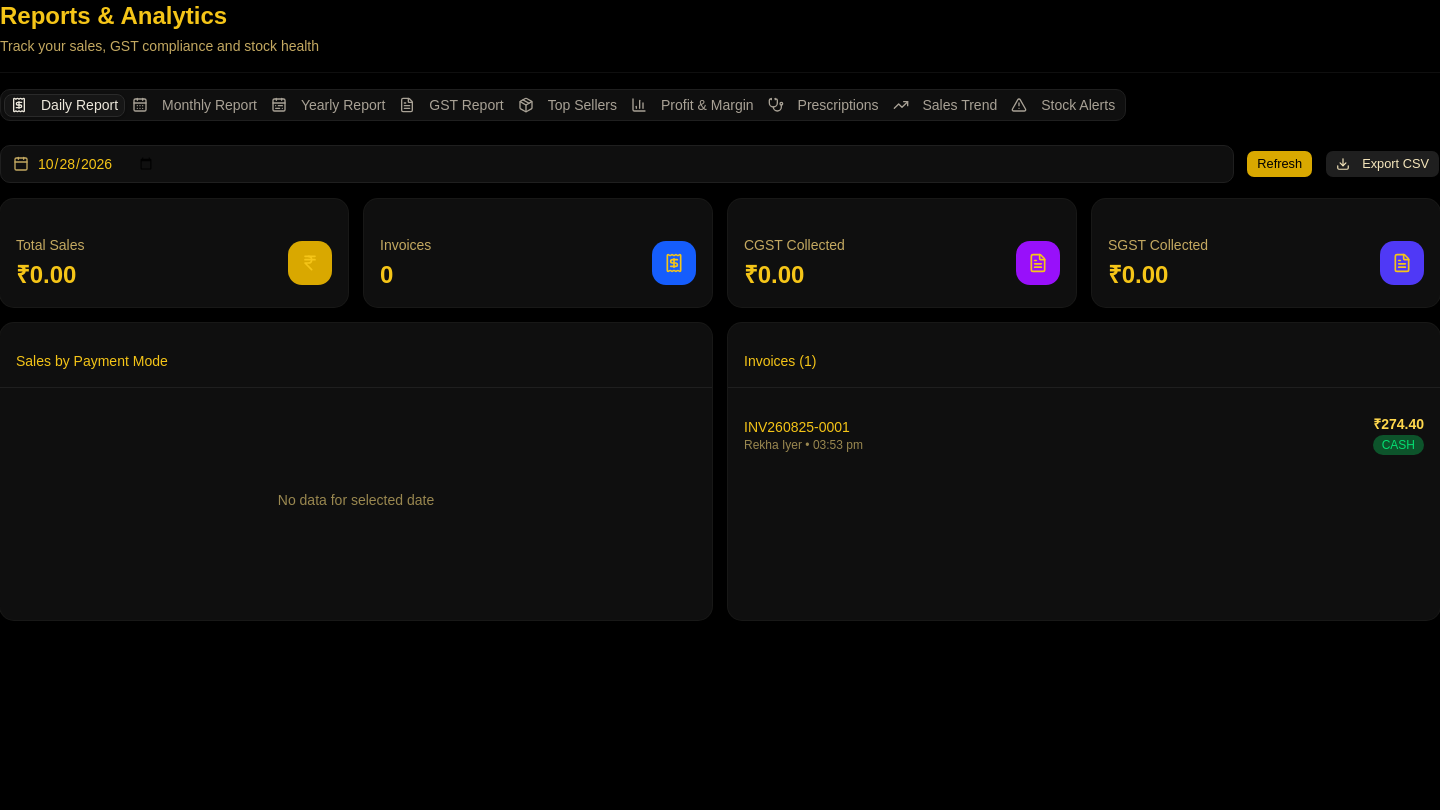
Reports — invoice detail › opens the invoice and shows what is still outstanding
Click the button with aria-label "Invoice INV260825-0001" at (797, 426), box [728, 404, 1439, 465]
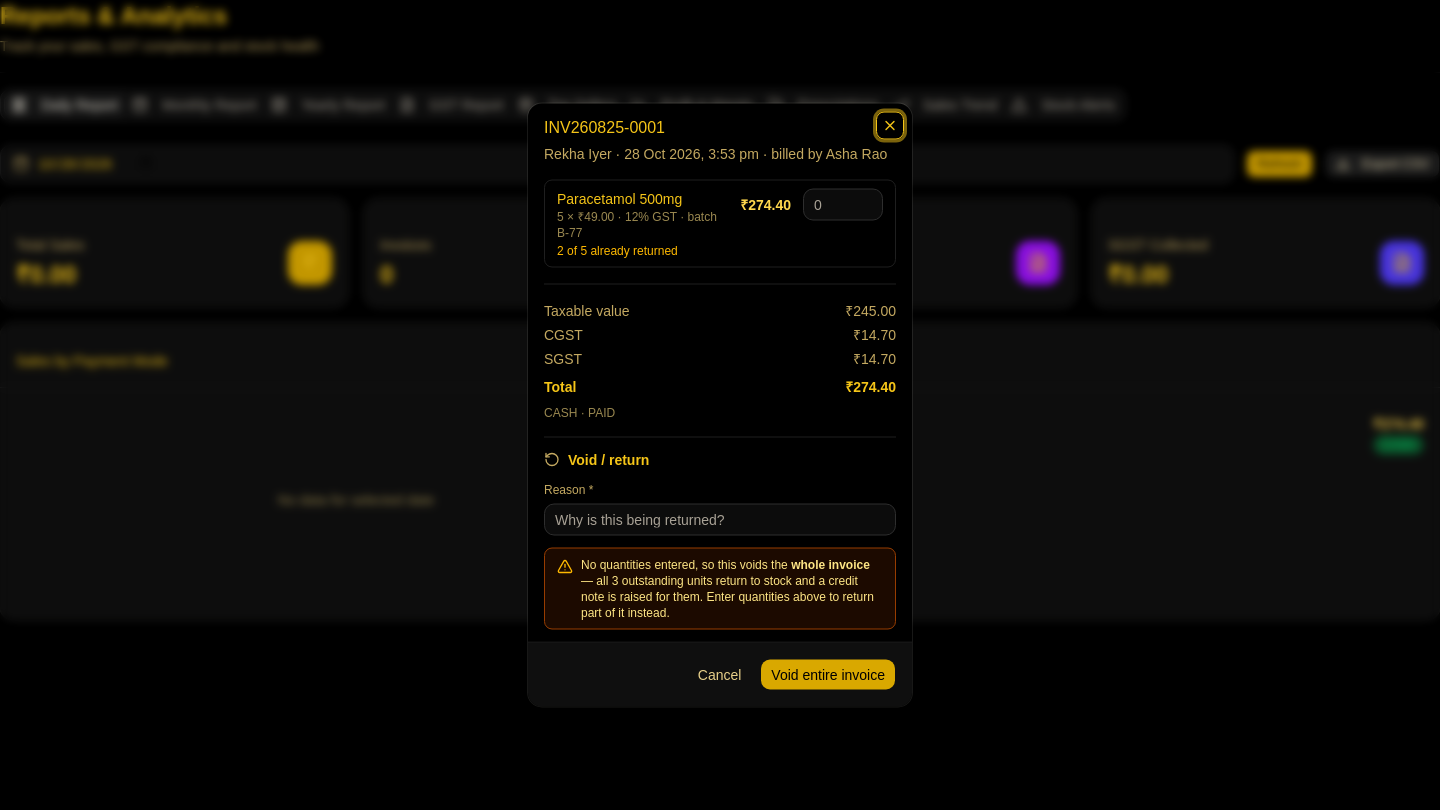
Now the text "2 of 5 already returned" is shown, box [557, 244, 678, 258]
Now the text "Rekha Iyer · 28 Oct 2026, 3:53 pm · billed by Asha Rao" is shown, box [544, 144, 896, 164]
